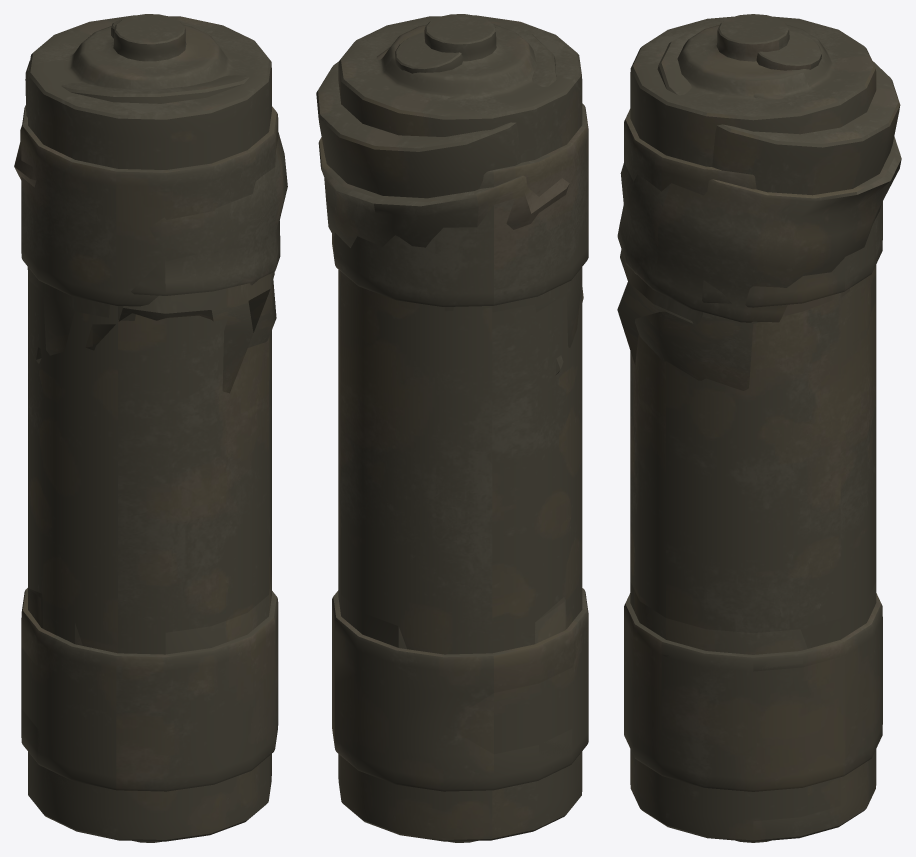
The model's file is Part B Combined.fbx.
The picture shows the model from 3 angles, left to right: view 1: azimuth 30°, elevation 25°; view 2: azimuth 150°, elevation 25°; view 3: azimuth 270°, elevation 25°; orthographic projection.
Visible parts, largest first — view 1: Part B Damaged, Part B Good, Part B Broken; view 2: Part B Good, Part B Broken, Part B Damaged; view 3: Part B Damaged, Part B Good, Part B Broken.
Part boxes in pixels (x1,y1,x2,y2): Part B Damaged: (21, 14, 278, 842); Part B Good: (28, 126, 271, 654); Part B Broken: (14, 18, 287, 842); Part B Good: (338, 269, 582, 654); Part B Broken: (316, 21, 587, 842); Part B Damaged: (332, 14, 588, 841); Part B Damaged: (624, 14, 882, 842); Part B Good: (630, 111, 876, 633); Part B Broken: (617, 23, 901, 842).
Bounding box in the file's own units: 39.77 × 129 × 41.68.
Materials: 3 (3 with a texture image).
